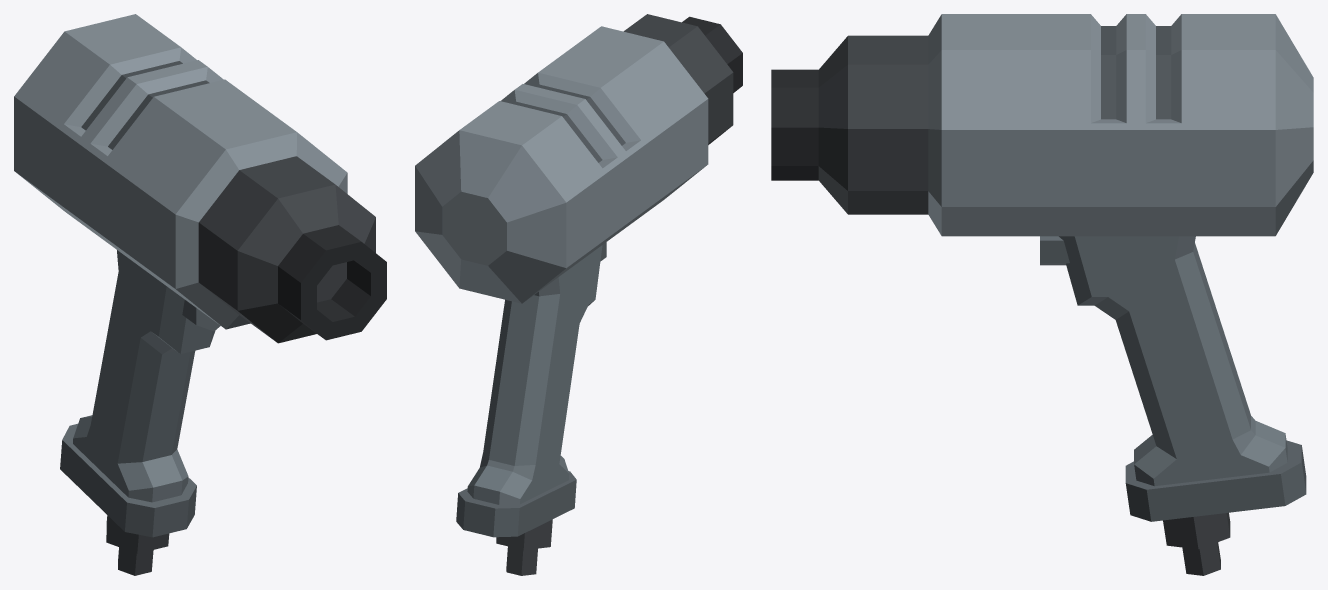
Rendered from SM_Prop_AirDrill_02.fbx.
3 views of the same model, side by side, from view 1: azimuth 30°, elevation 25°; view 2: azimuth 150°, elevation 25°; view 3: azimuth 270°, elevation 25° (orthographic). The views are drawn at different scales.
Visible parts, largest first — view 1: SM_Prop_AirDrill_02; view 2: SM_Prop_AirDrill_02; view 3: SM_Prop_AirDrill_02.
Part boxes in pixels (x1,y1,x2,y2): SM_Prop_AirDrill_02: (14, 14, 386, 575); SM_Prop_AirDrill_02: (415, 14, 742, 575); SM_Prop_AirDrill_02: (771, 14, 1313, 575).
Bounding box in the file's own units: 10.65 × 30.73 × 28.09.
